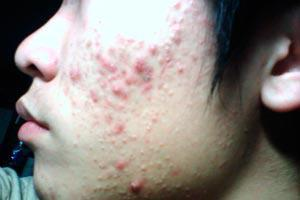fore: (126, 179, 145, 197), (132, 53, 150, 71), (102, 111, 118, 128), (180, 3, 194, 20), (111, 81, 126, 96), (112, 156, 126, 171), (167, 13, 183, 26), (167, 35, 183, 48), (195, 14, 213, 25), (142, 68, 156, 82), (124, 130, 139, 143), (111, 32, 124, 47), (65, 98, 81, 110), (138, 83, 154, 95), (88, 88, 100, 104), (151, 110, 162, 126), (66, 66, 79, 79), (110, 123, 124, 135), (164, 50, 175, 65), (170, 25, 183, 37), (148, 43, 160, 54), (86, 35, 96, 48), (101, 56, 111, 68), (155, 83, 169, 91), (109, 61, 119, 72), (118, 50, 127, 62), (166, 0, 179, 8), (89, 48, 100, 57), (123, 74, 132, 85), (102, 181, 110, 193), (188, 54, 200, 62), (124, 36, 135, 44), (120, 66, 130, 74), (91, 182, 98, 193), (106, 46, 117, 53)
